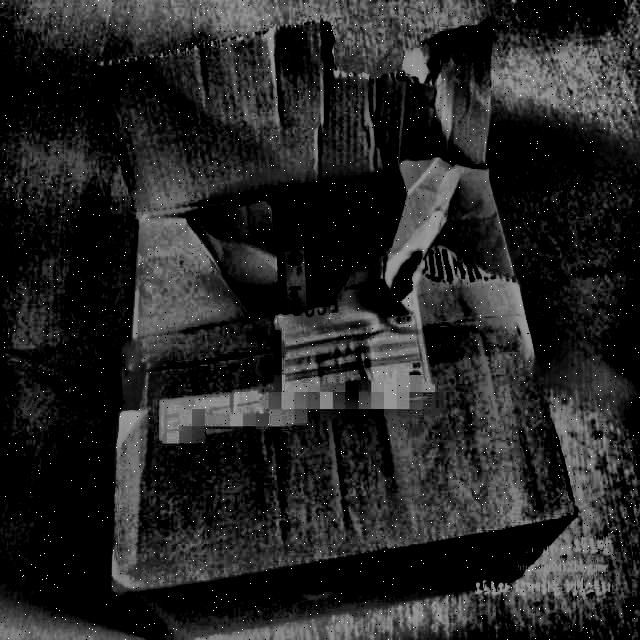box: (63, 7, 592, 639)
hole: (267, 167, 428, 313)
